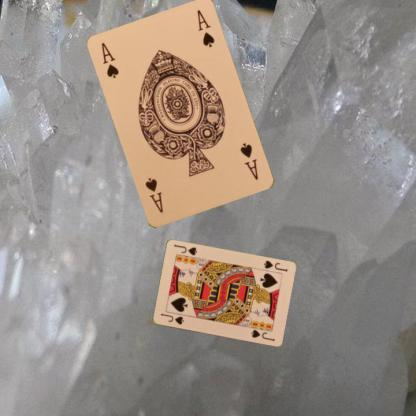As: (237, 140, 260, 181), (99, 40, 120, 80)
Js: (158, 310, 185, 326), (261, 258, 288, 273)
